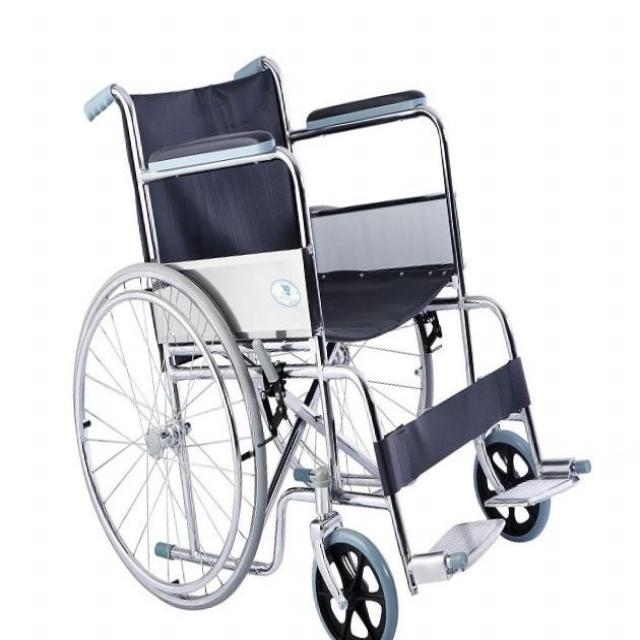wheelchair: (48, 38, 610, 640)
